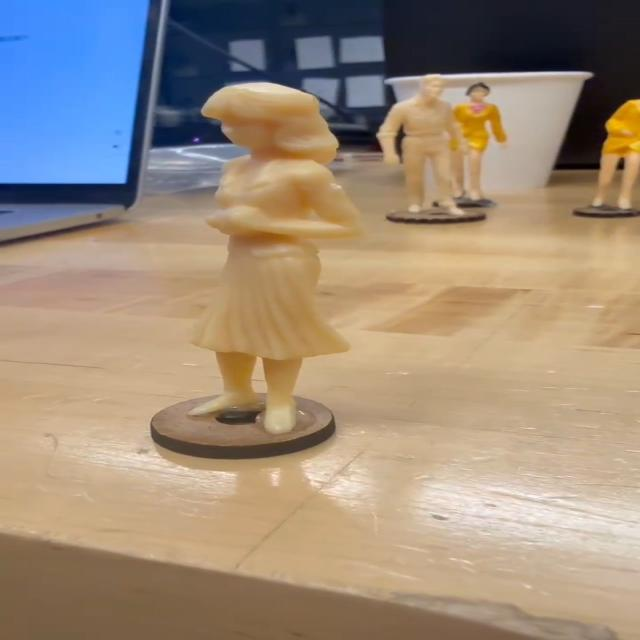Unauthorized: (176, 62, 350, 452)
